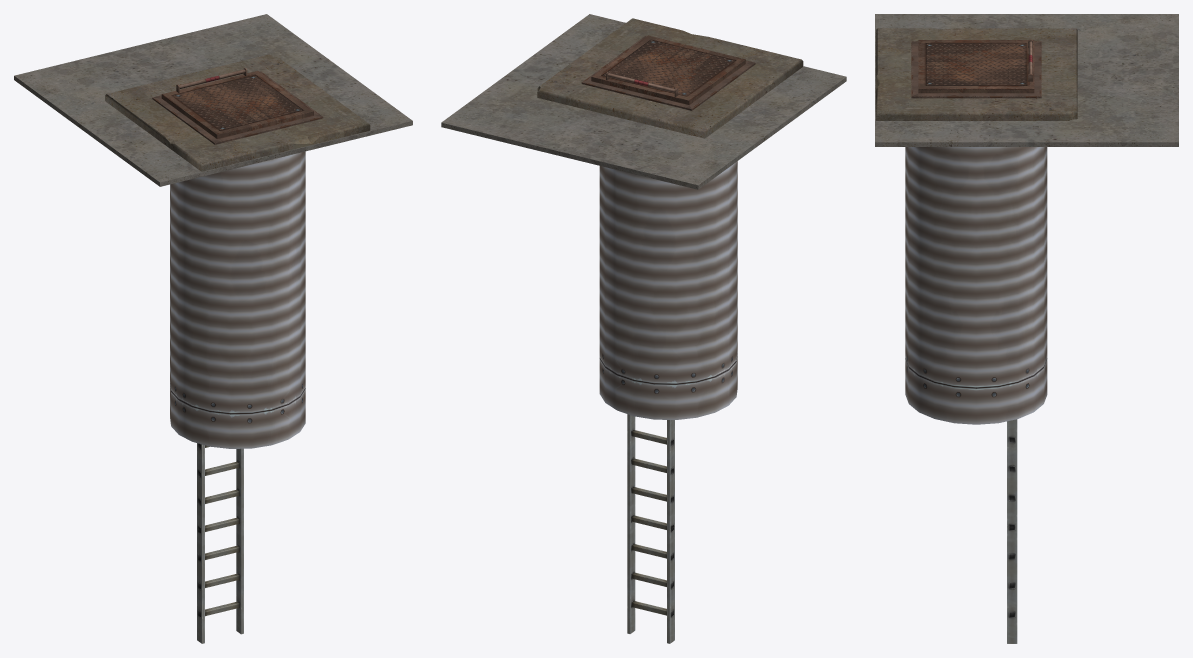
The model's file is bunkerEntrance04.FBX.
3 renders of one model, left to right at view 1: azimuth 30°, elevation 25°; view 2: azimuth 150°, elevation 25°; view 3: azimuth 270°, elevation 25°, orthographic. The views are drawn at different scales.
Parts seen in each view (by area): view 1: bunkerEntrance04_tube02, bunkerEntrance04_floor, bunkerEntrance04_edge, bunkerEntrance04_tubeEnd, bunkerEntrance04_hatch, bunkerEntrance04_tube01, bunkerEntrance04; view 2: bunkerEntrance04_tube01, bunkerEntrance04_floor, bunkerEntrance04_edge, bunkerEntrance04_tubeEnd, bunkerEntrance04_hatch, bunkerEntrance04_tube02, bunkerEntrance04; view 3: bunkerEntrance04_floor, bunkerEntrance04_tube02, bunkerEntrance04_tube01, bunkerEntrance04_edge, bunkerEntrance04_tubeEnd, bunkerEntrance04_hatch, bunkerEntrance04.
Boxes of the visible parts, x1,y1,x2,y2 form: bunkerEntrance04_tube02: (178, 151, 305, 413); bunkerEntrance04_floor: (14, 14, 412, 186); bunkerEntrance04_edge: (105, 54, 370, 171); bunkerEntrance04_tubeEnd: (170, 384, 305, 643); bunkerEntrance04_hatch: (161, 68, 313, 139); bunkerEntrance04_tube01: (170, 182, 178, 398); bunkerEntrance04: (152, 71, 323, 144); bunkerEntrance04_tube01: (599, 166, 728, 384); bunkerEntrance04_floor: (441, 14, 846, 189); bunkerEntrance04_edge: (537, 18, 803, 138); bunkerEntrance04_tubeEnd: (599, 354, 737, 643); bunkerEntrance04_hatch: (591, 35, 745, 105); bunkerEntrance04_tube02: (728, 161, 737, 369); bunkerEntrance04: (581, 36, 755, 110); bunkerEntrance04_floor: (875, 14, 1178, 146); bunkerEntrance04_tube02: (905, 147, 976, 387); bunkerEntrance04_tube01: (976, 147, 1047, 387); bunkerEntrance04_edge: (876, 28, 1077, 120); bunkerEntrance04_tubeEnd: (905, 358, 1047, 643); bunkerEntrance04_hatch: (918, 39, 1034, 93); bunkerEntrance04: (911, 41, 1041, 98).
Bounding box in the file's own units: 300 × 628 × 300.
